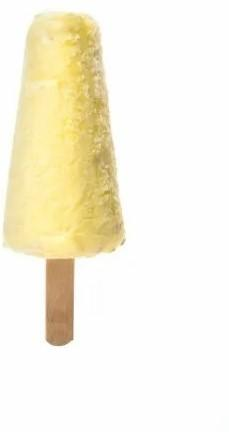Kulfi: (3, 14, 129, 259)
